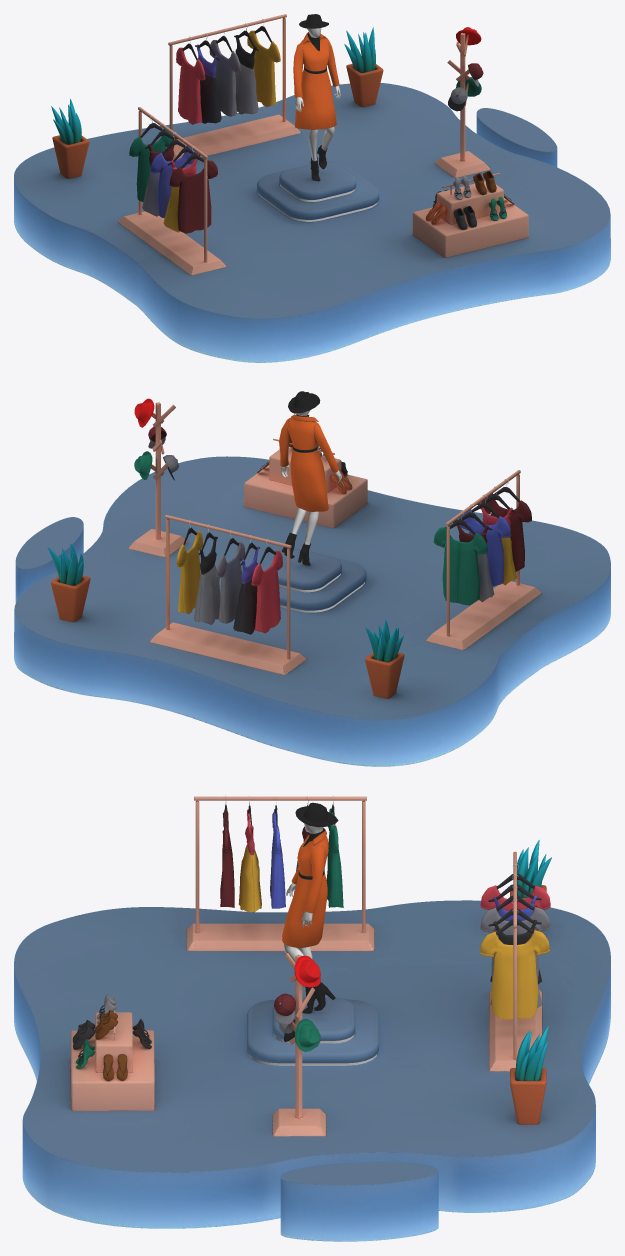
The model's file is LeviCam7.glb.
3 renders of one model, top to bottom at view 1: azimuth 30°, elevation 25°; view 2: azimuth 150°, elevation 25°; view 3: azimuth 270°, elevation 25°, orthographic. The views are drawn at different scales.
Parts seen in each view (by area): view 1: LeviCamBase, LeviCamSet, LeviCamManneDrs, LeviCamManneBdy, LeviCamBsGlw; view 2: LeviCamBase, LeviCamSet, LeviCamManneDrs, LeviCamManneBdy; view 3: LeviCamBase, LeviCamSet, LeviCamManneDrs, LeviCamManneBdy.
Part boxes in pixels (x1,y1,x2,y2): LeviCamBase: (14,83,610,362); LeviCamSet: (51,14,528,275); LeviCamManneDrs: (293,14,339,181); LeviCamManneBdy: (295,28,340,161); LeviCamBsGlw: (258,184,378,221); LeviCamBase: (14,456,610,766); LeviCamSet: (47,398,541,698); LeviCamManneDrs: (279,391,338,565); LeviCamManneBdy: (280,410,341,544); LeviCamBase: (14,900,610,1241); LeviCamSet: (70,795,551,1136); LeviCamManneDrs: (282,802,338,1013); LeviCamManneBdy: (284,823,323,962).
Bounding box in the file's own units: 7.58 × 3.58 × 6.72.
7 materials, 4 textured.
